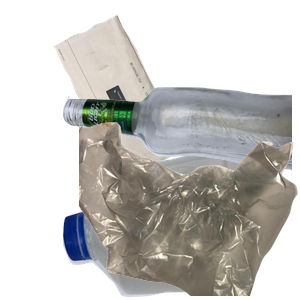glass: (60, 84, 300, 260)
paper: (51, 13, 230, 186)
plastic: (60, 135, 300, 300)
trash: (79, 120, 300, 300)
